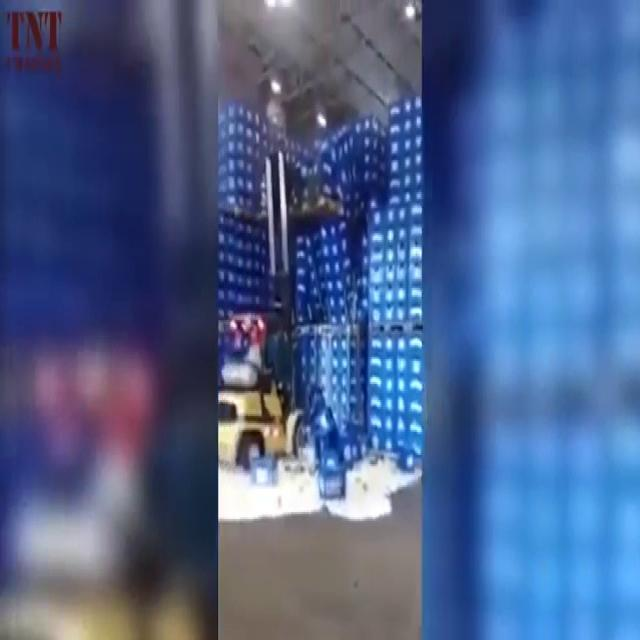Chariot elevateur: (215, 322, 310, 476)
